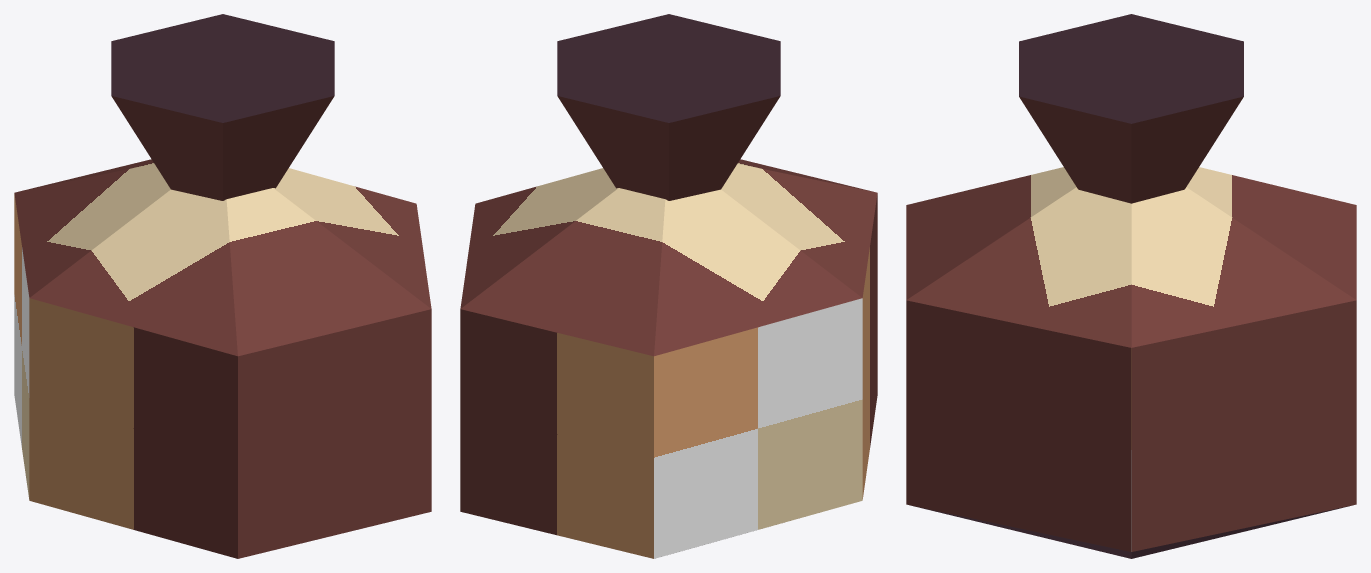
File: SaltBag.gltf
The picture shows the model from 3 angles, left to right: view 1: azimuth 30°, elevation 25°; view 2: azimuth 150°, elevation 25°; view 3: azimuth 270°, elevation 25°; orthographic projection.
Visible parts, largest first — view 1: sphere; view 2: sphere; view 3: sphere.
Boxes of the visible parts, x1=… form: sphere: x1=14, y1=14, x2=431, y2=558; sphere: x1=460, y1=14, x2=877, y2=558; sphere: x1=906, y1=14, x2=1356, y2=558.
Size of the model in its own units: 0.25 by 0.3 by 0.25.
1 material, 1 textured.
